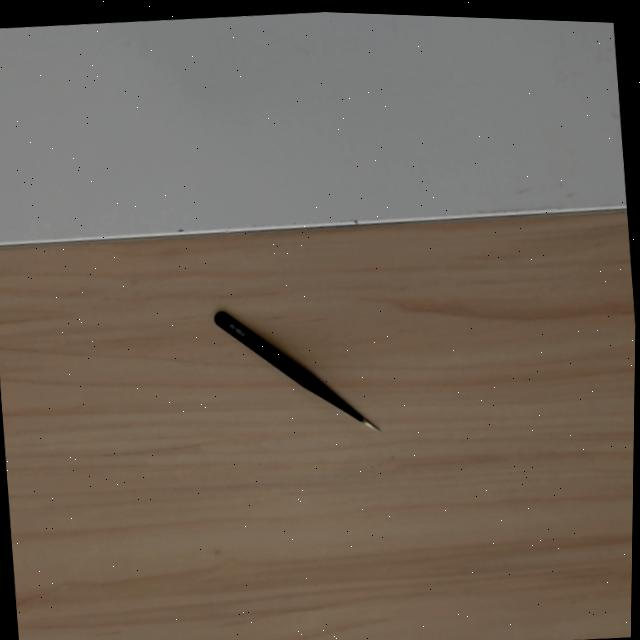Tweezers: (207, 306, 385, 440)
